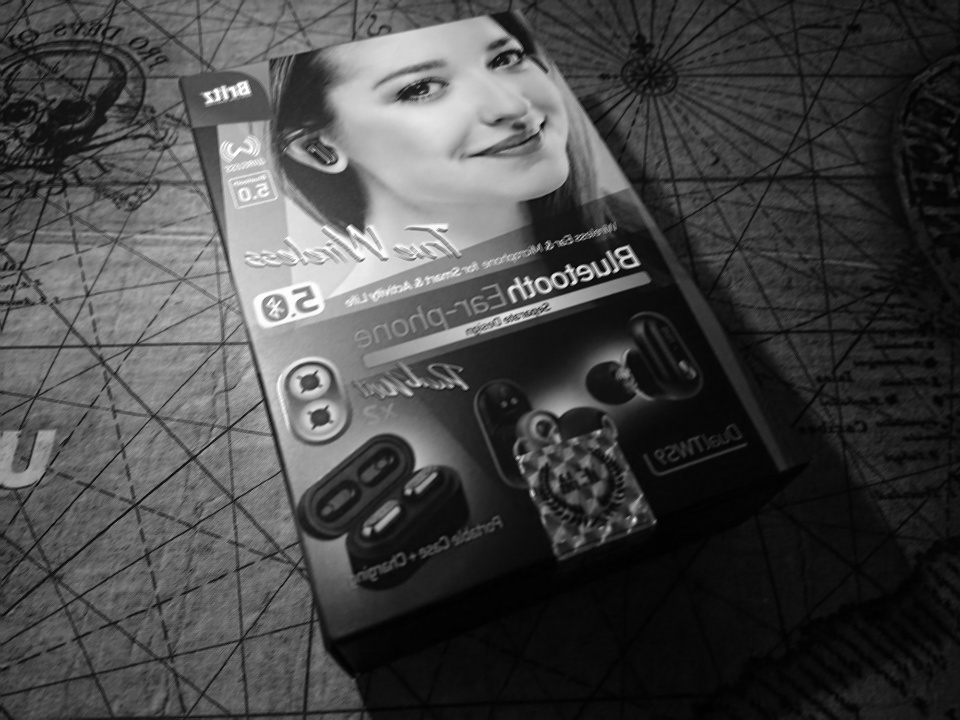earphone: (278, 120, 347, 174)
